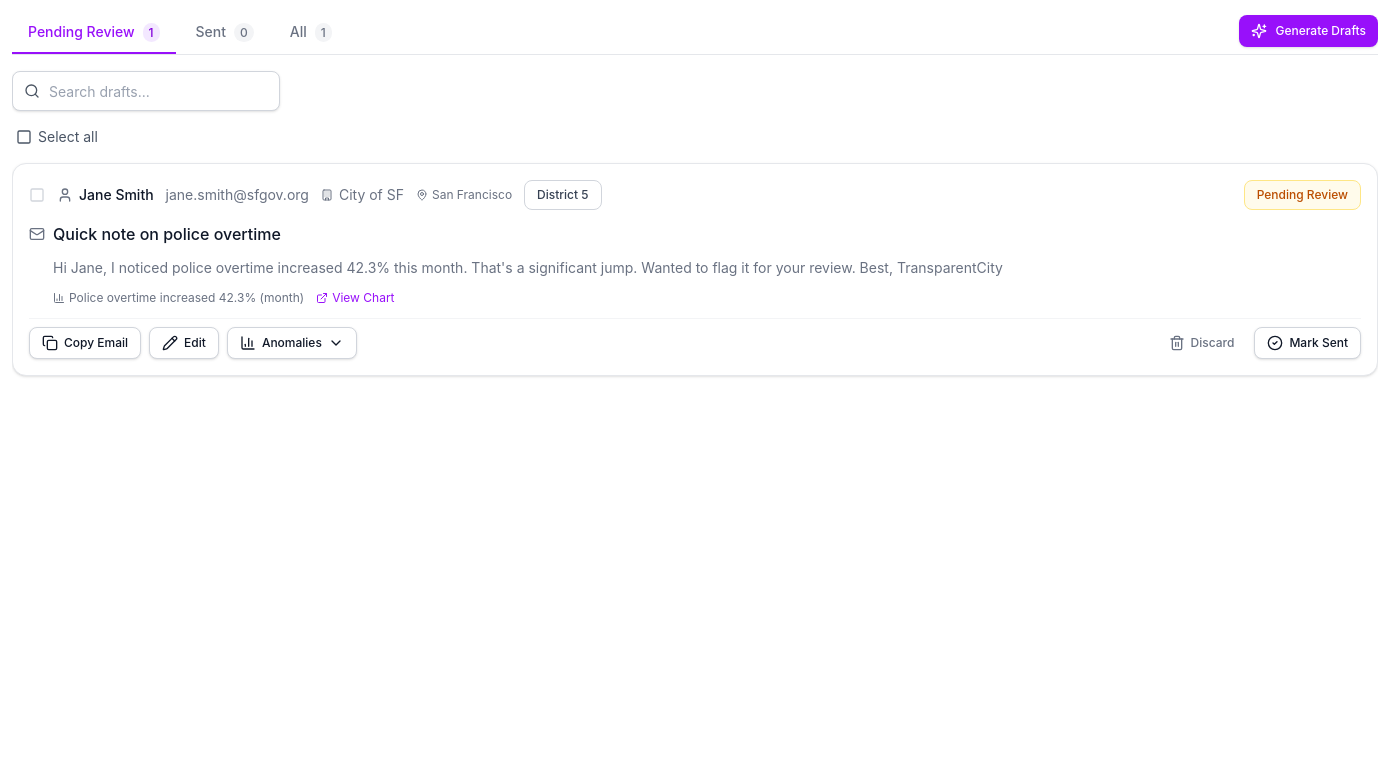
Test: ReviewAndSend › fetches and displays applicable anomalies when Anomalies is clicked
Click the button "Anomalies" at (292, 343), box [227, 327, 357, 359]
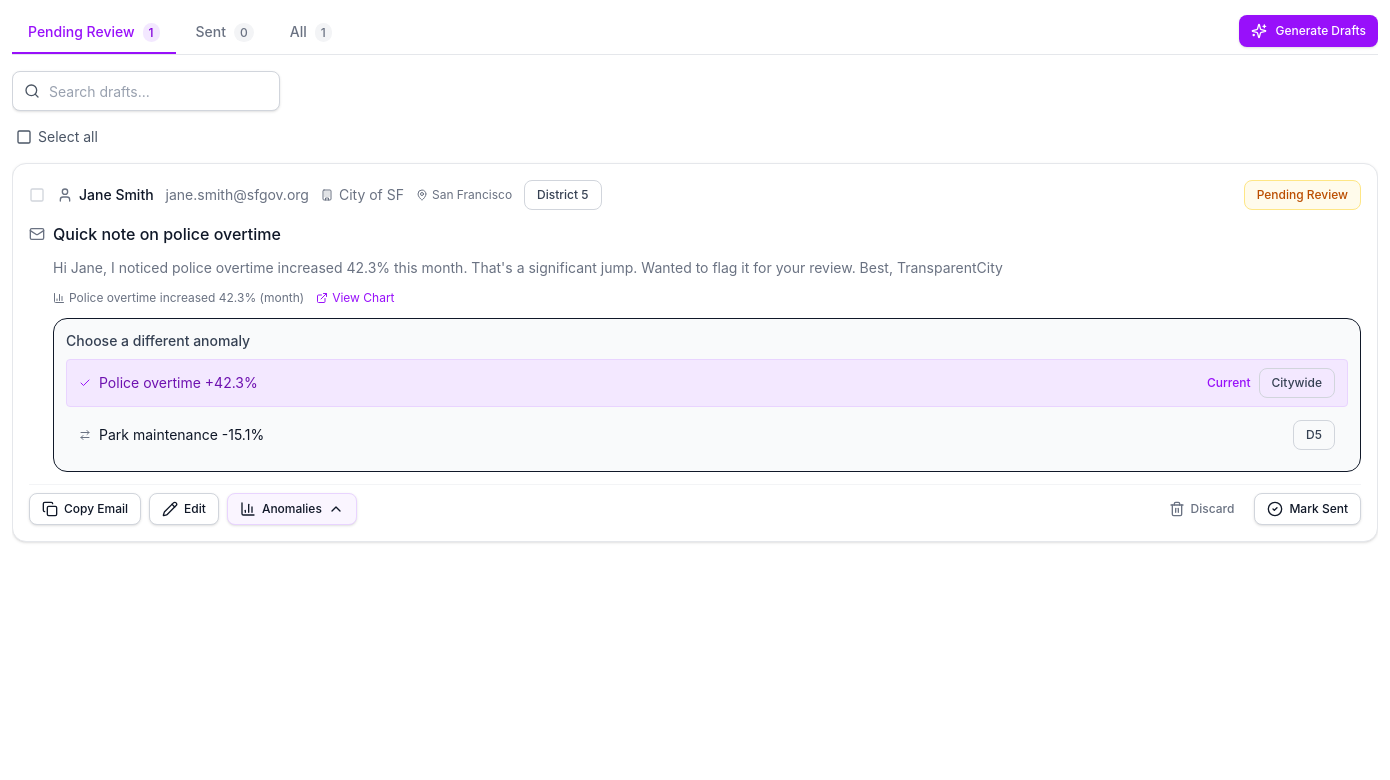
Now the text "Police overtime +42.3%" is shown, box [99, 374, 258, 391]
Now the text "Park maintenance -15.1%" is shown, box [99, 426, 264, 443]
Now the text "Current" is shown, box [1207, 375, 1250, 391]
